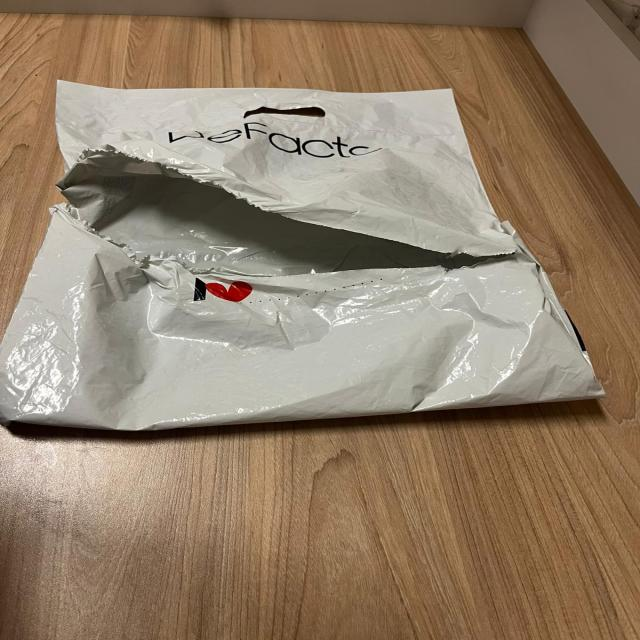damaged_package: (4, 77, 607, 432)
